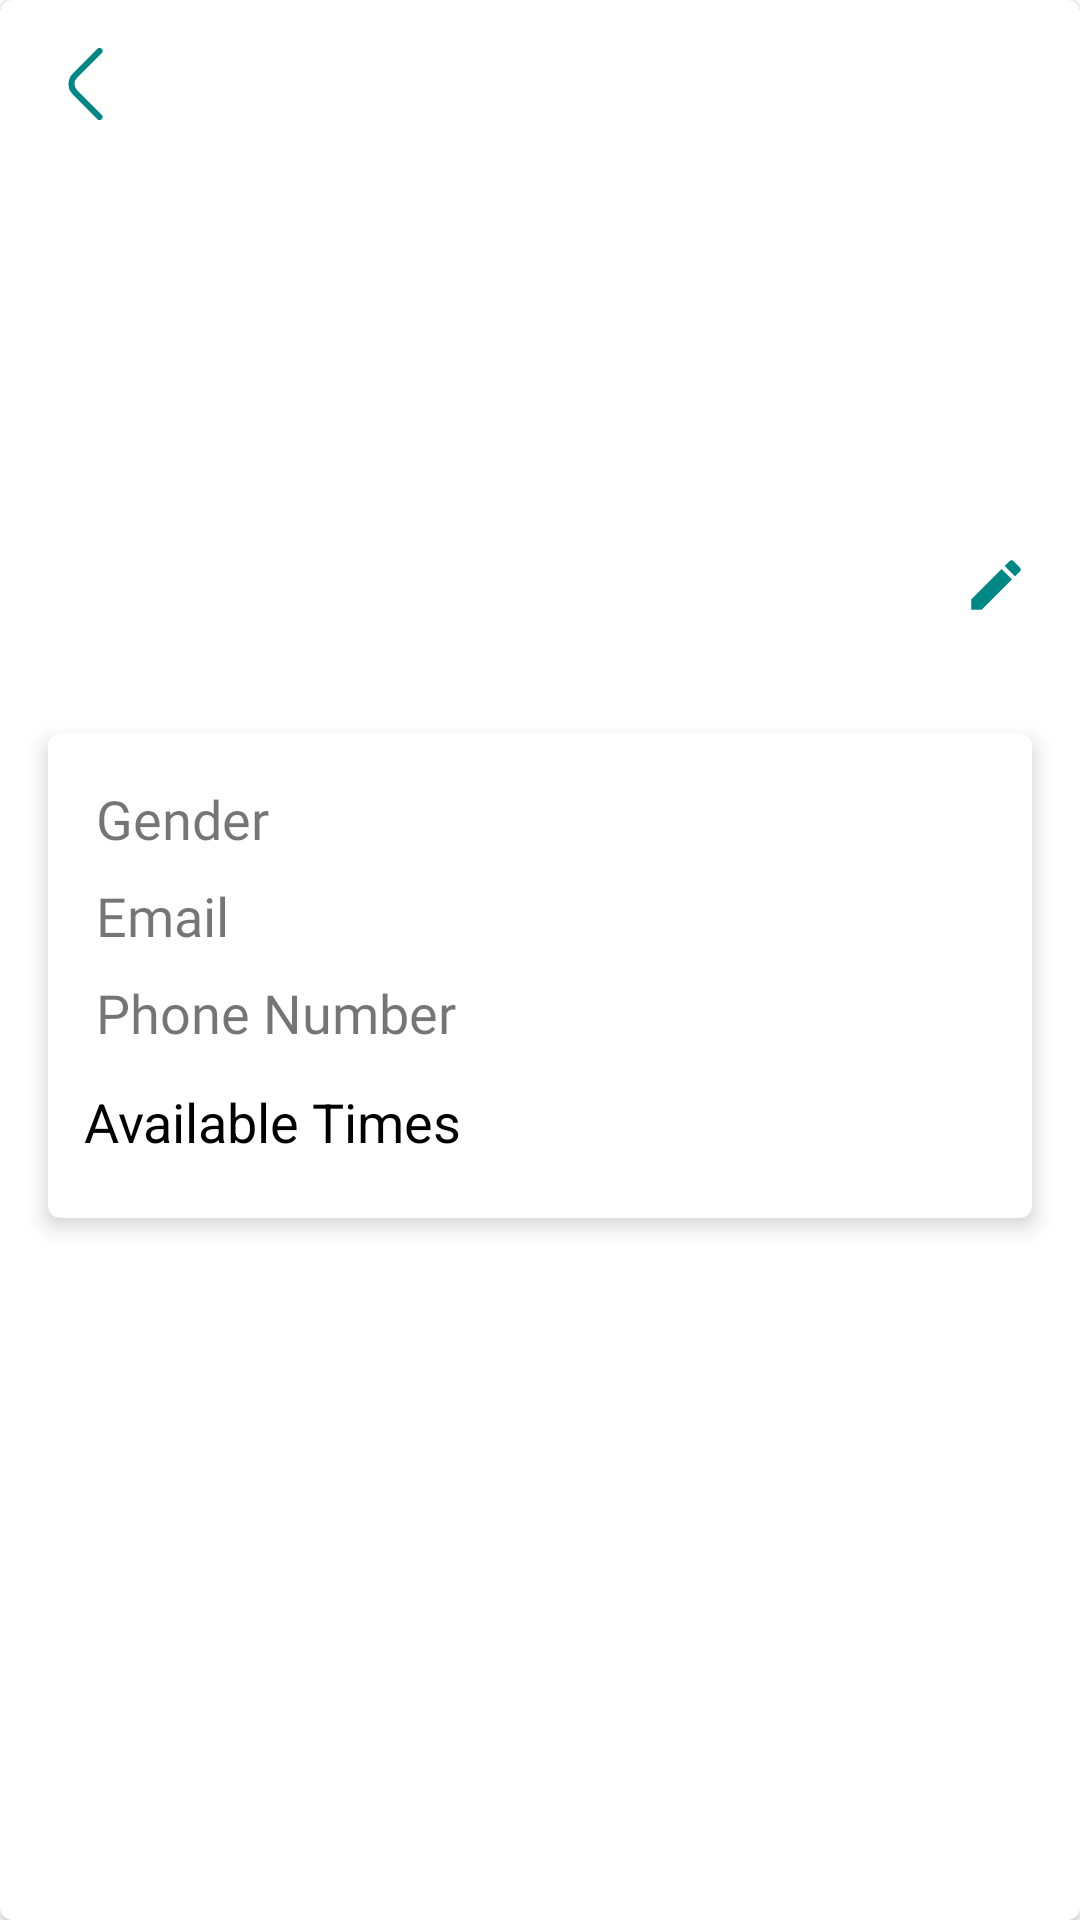

Icons on this 1080 × 1920 Android screen, each with its box as (x1, y1, x2, y2):
angle left: (68, 48, 103, 120)
edit: (971, 560, 1021, 610)
